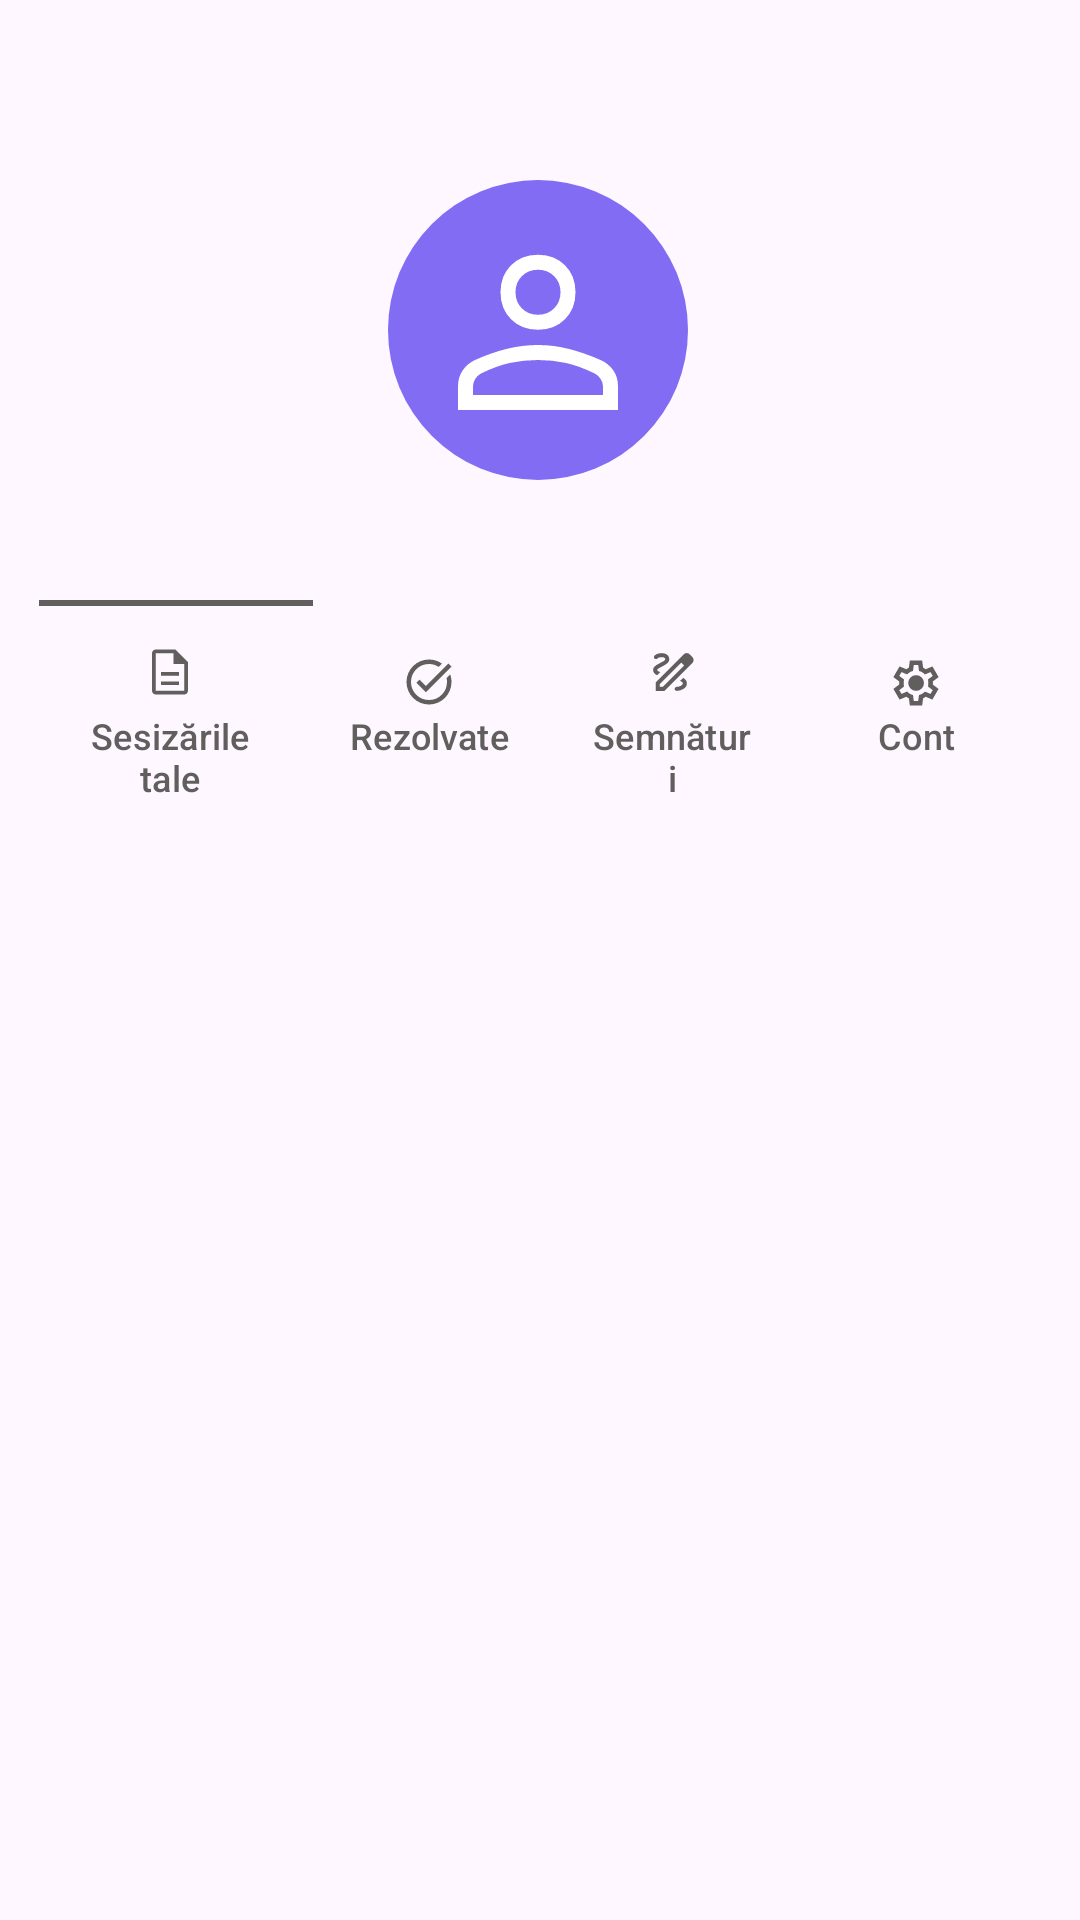

Locate icon controls on the screen. Image size 1080w x 1920h, boxes as detection(x1, y1, x2, y2).
profile: detection(388, 180, 688, 480)
